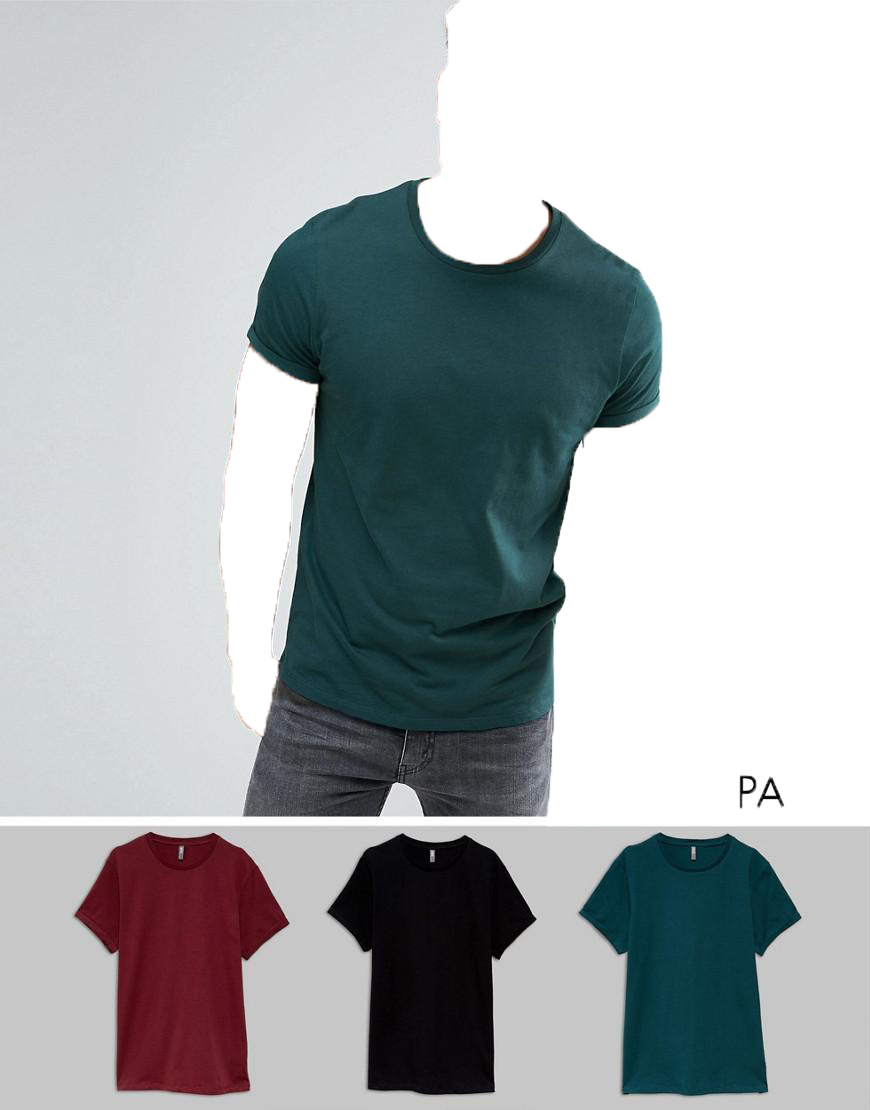teeshirt: (244, 169, 676, 737), (64, 830, 295, 1101), (322, 830, 544, 1107), (574, 830, 803, 1098)
